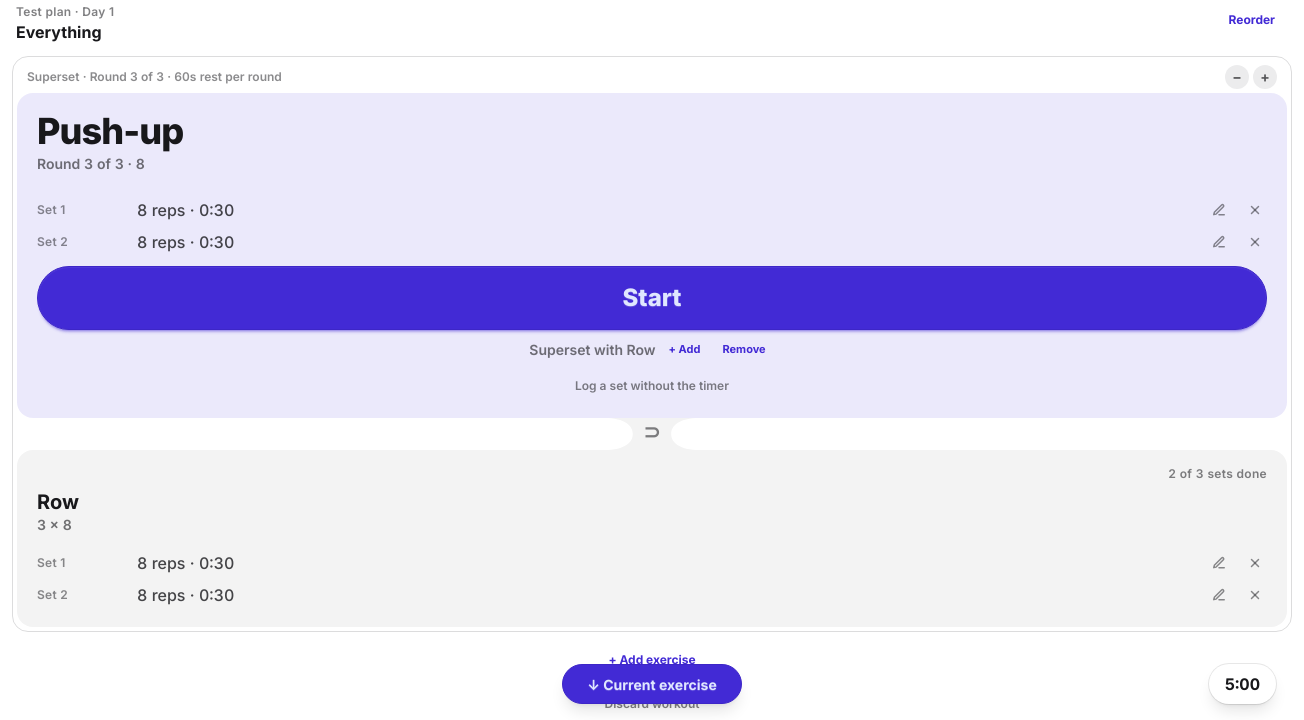
Scenario: active workout › won't take away rounds already done
Expected: the text "Superset · Round 3 of 3 · 60s rest per round" is shown, [27,69,282,84]
Step 1. Click the button named "One round fewer" → (1237, 77), box [1225,65,1249,89]
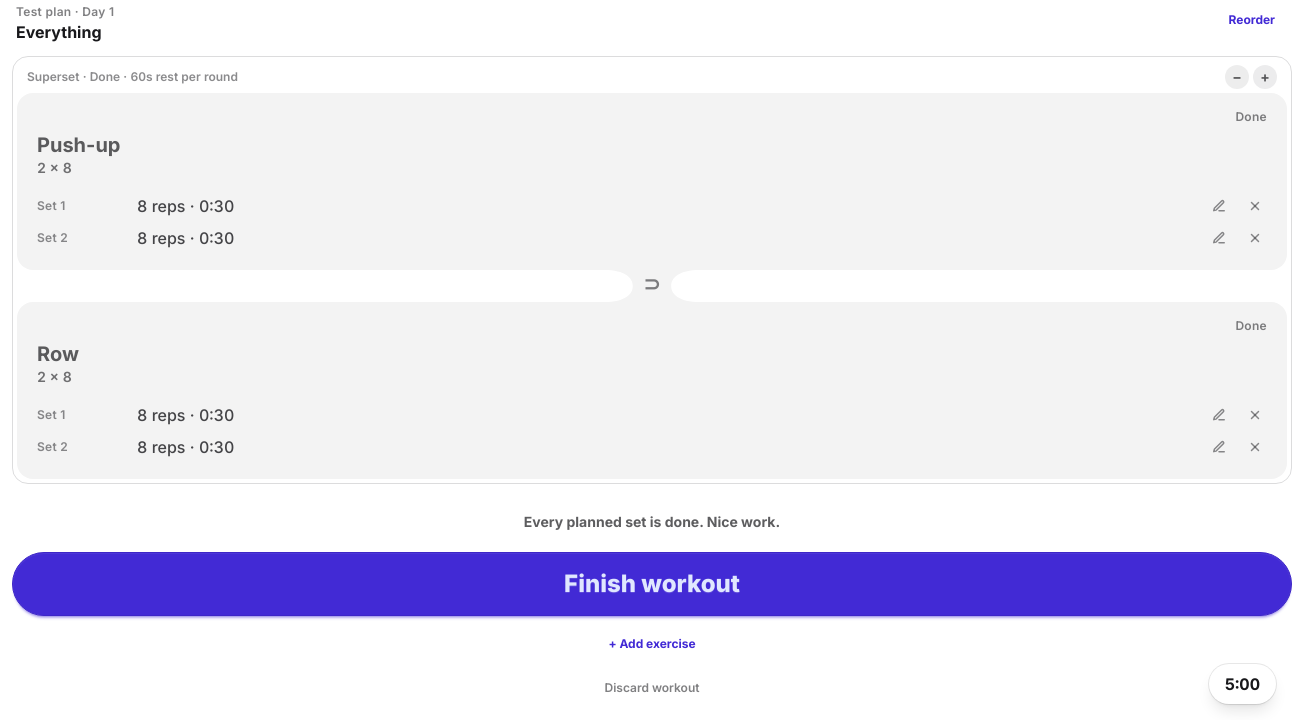
Expected: the text "Superset · Done · 60s rest per round" is shown, [27,69,238,84]
Step 2. Click the button named "One more round" → (1265, 77), box [1253,65,1277,89]
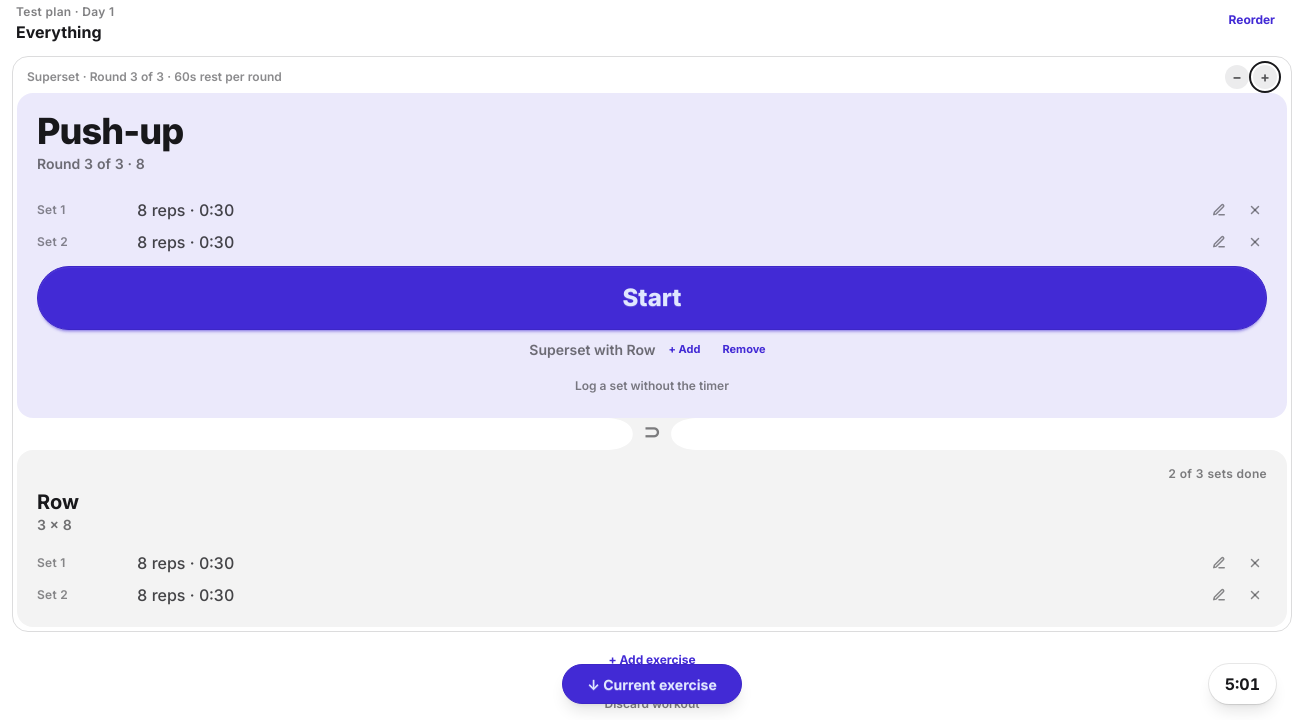
Expected: the text "Superset · Round 3 of 3 · 60s rest per round" is shown, [27,69,282,84]
